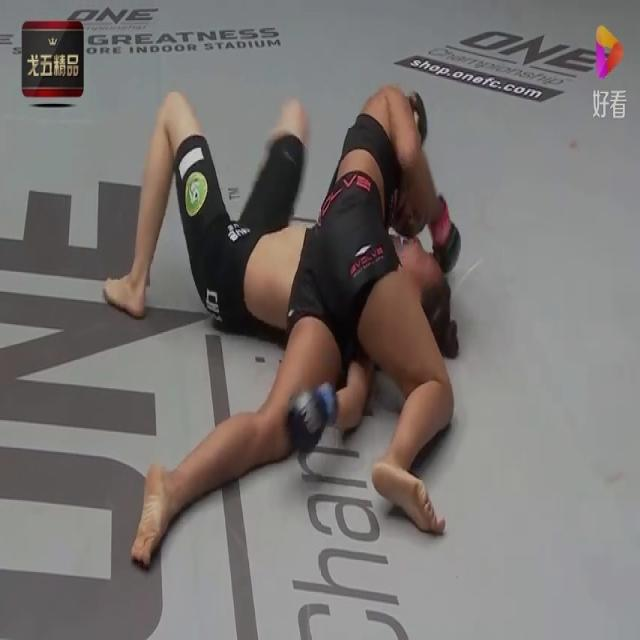fight: (101, 75, 480, 586)
